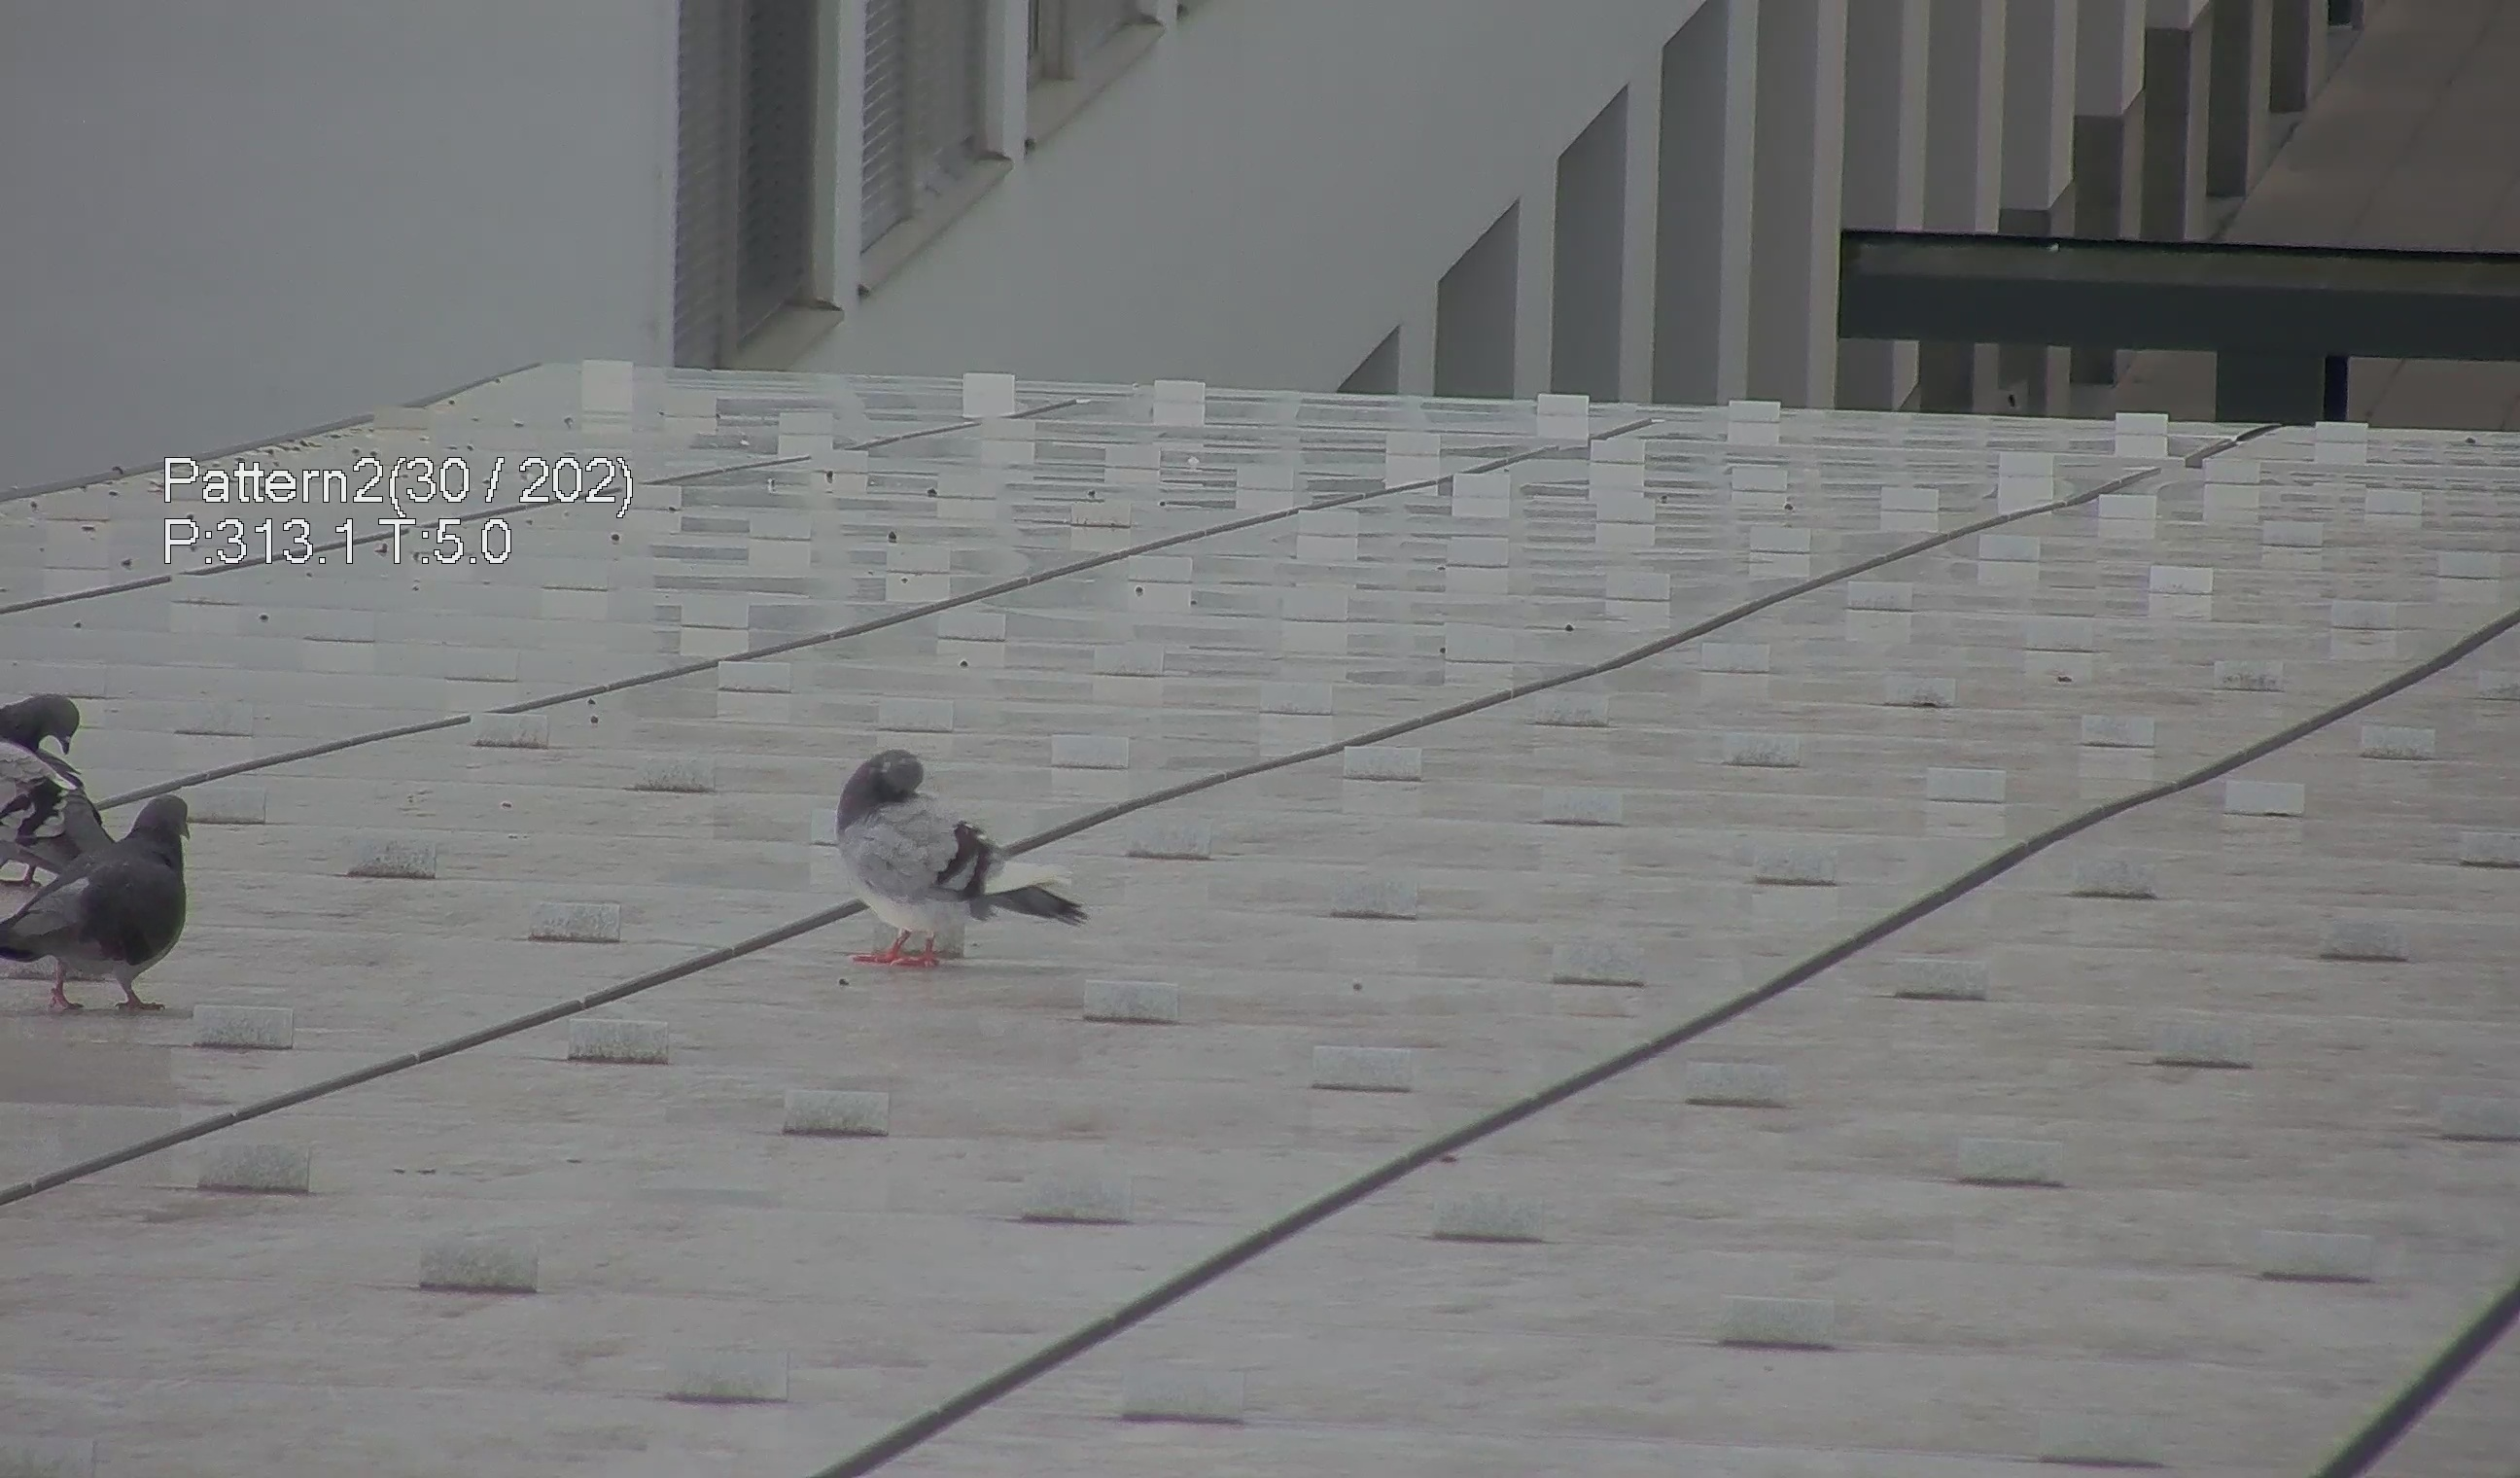Pigeon: (814, 748, 1082, 973), (5, 788, 216, 1008), (2, 753, 135, 871), (2, 679, 125, 765)
